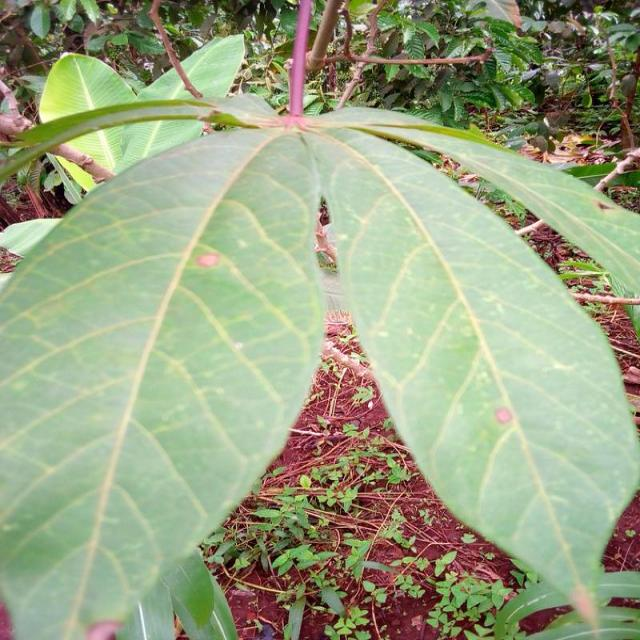cassava leaf: (2, 8, 640, 637), (306, 111, 640, 620), (1, 123, 326, 638)
